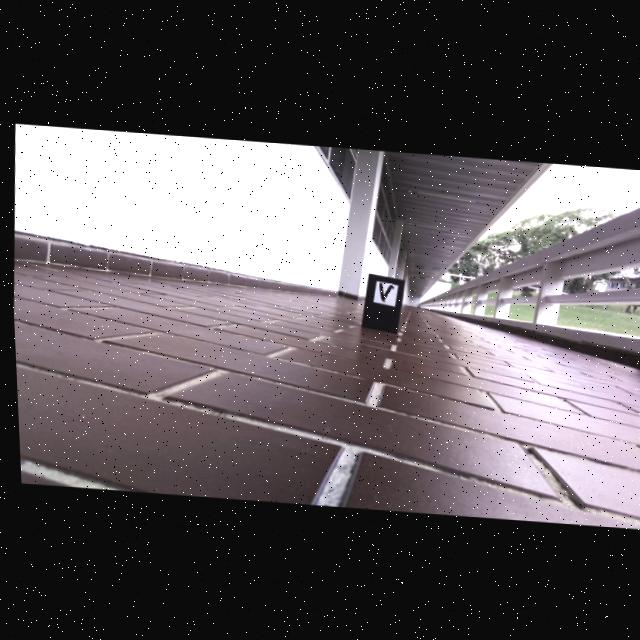V: (377, 282, 390, 299)
